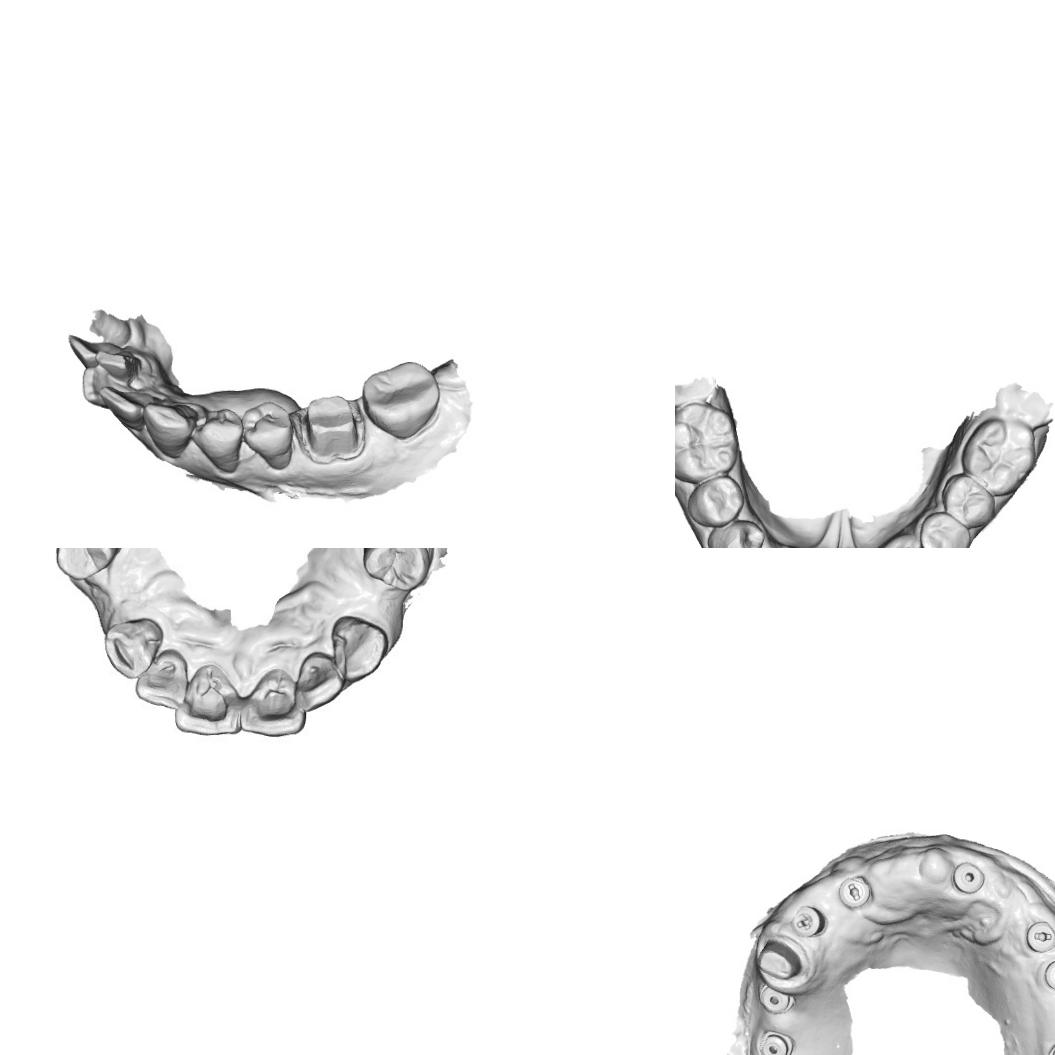canine: (328, 612, 390, 682), (102, 613, 162, 676), (141, 399, 197, 460)
crown: (301, 388, 363, 462), (755, 932, 810, 980)
implant: (947, 856, 988, 902), (755, 982, 797, 1016), (753, 1028, 794, 1055)
implant_minus: (836, 872, 875, 910), (1020, 916, 1055, 958), (1038, 957, 1055, 994)
implant_plus: (788, 904, 823, 938)
incisor: (235, 670, 306, 741), (174, 669, 242, 737), (134, 654, 188, 711), (296, 651, 344, 715), (95, 386, 156, 436), (64, 332, 119, 368), (80, 367, 128, 408), (94, 350, 140, 382)
molar: (362, 356, 442, 443), (958, 414, 1036, 499), (675, 400, 743, 482)
premolar: (939, 462, 999, 529), (192, 407, 250, 474), (685, 472, 749, 531), (241, 396, 296, 462), (359, 548, 430, 593), (52, 548, 125, 582), (916, 510, 972, 548), (704, 516, 769, 548)
